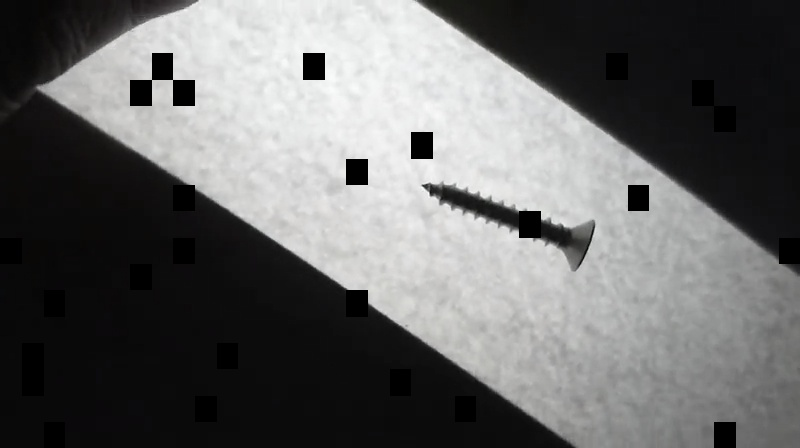S001: (414, 178, 598, 274)
